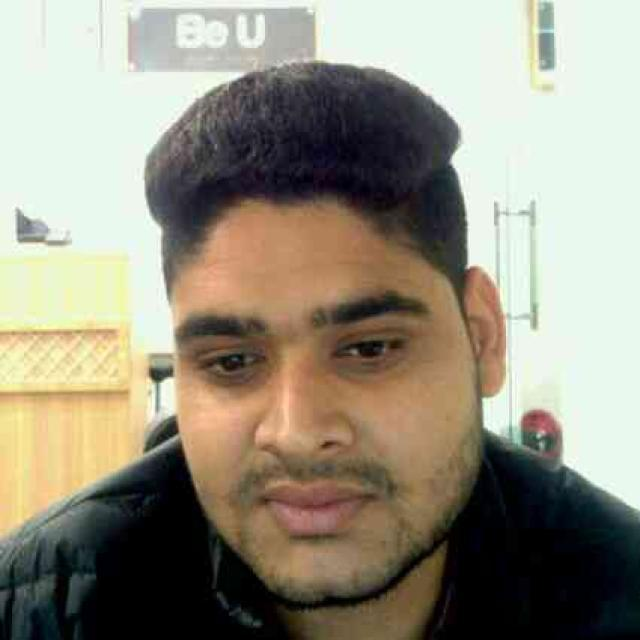puffy_eyes: (198, 358, 269, 395), (327, 357, 401, 382)
